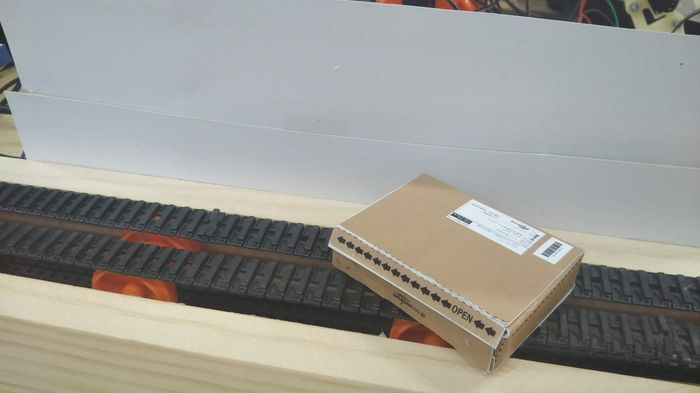box2: (326, 169, 584, 371)
